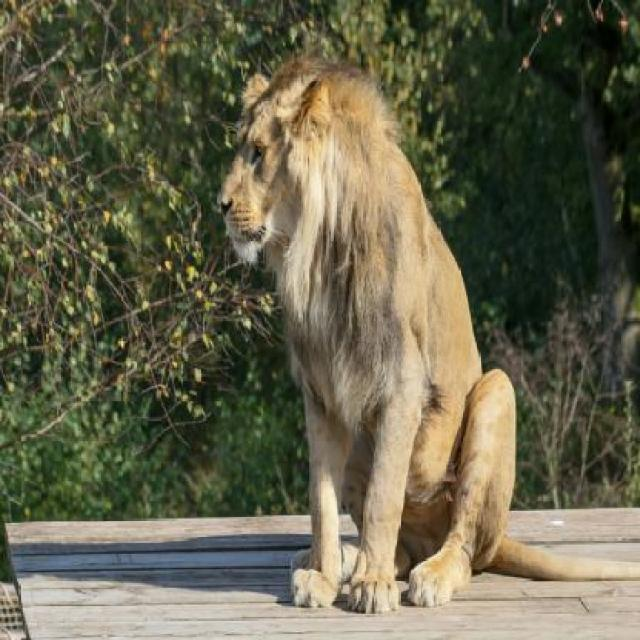Lion: (195, 32, 572, 638)
